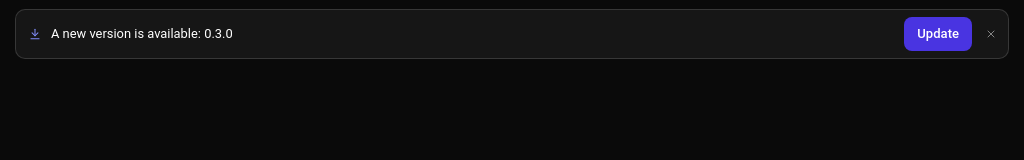
it: UpdateBanner (round 7) › a failed install says so and lets the user retry
Later steps or results of the test are not shown.
Click the button "Update" at (938, 34), box [904,17,972,51]
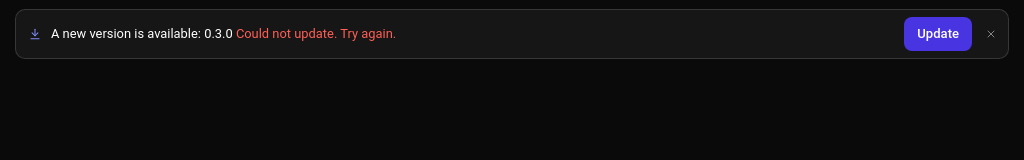
expect the message reads "Could not update. Try again.": met, box [236,26,396,41]
